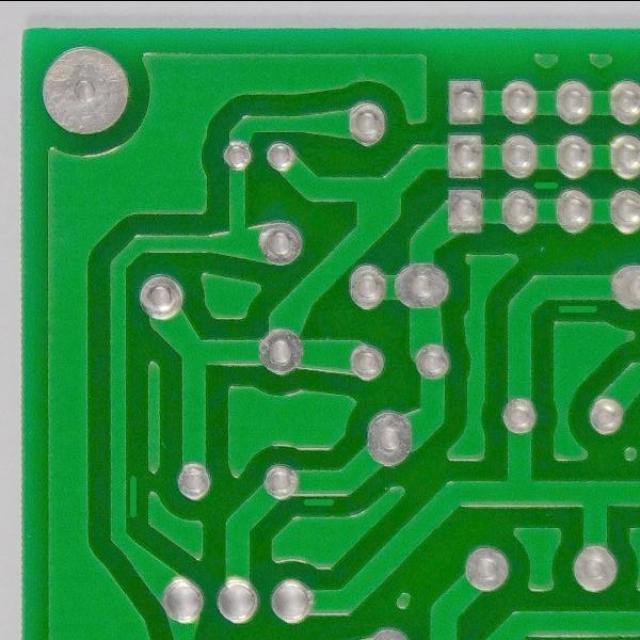Spurious_Cooper: (126, 469, 143, 523), (554, 300, 602, 318), (299, 494, 339, 511), (530, 177, 562, 193)
